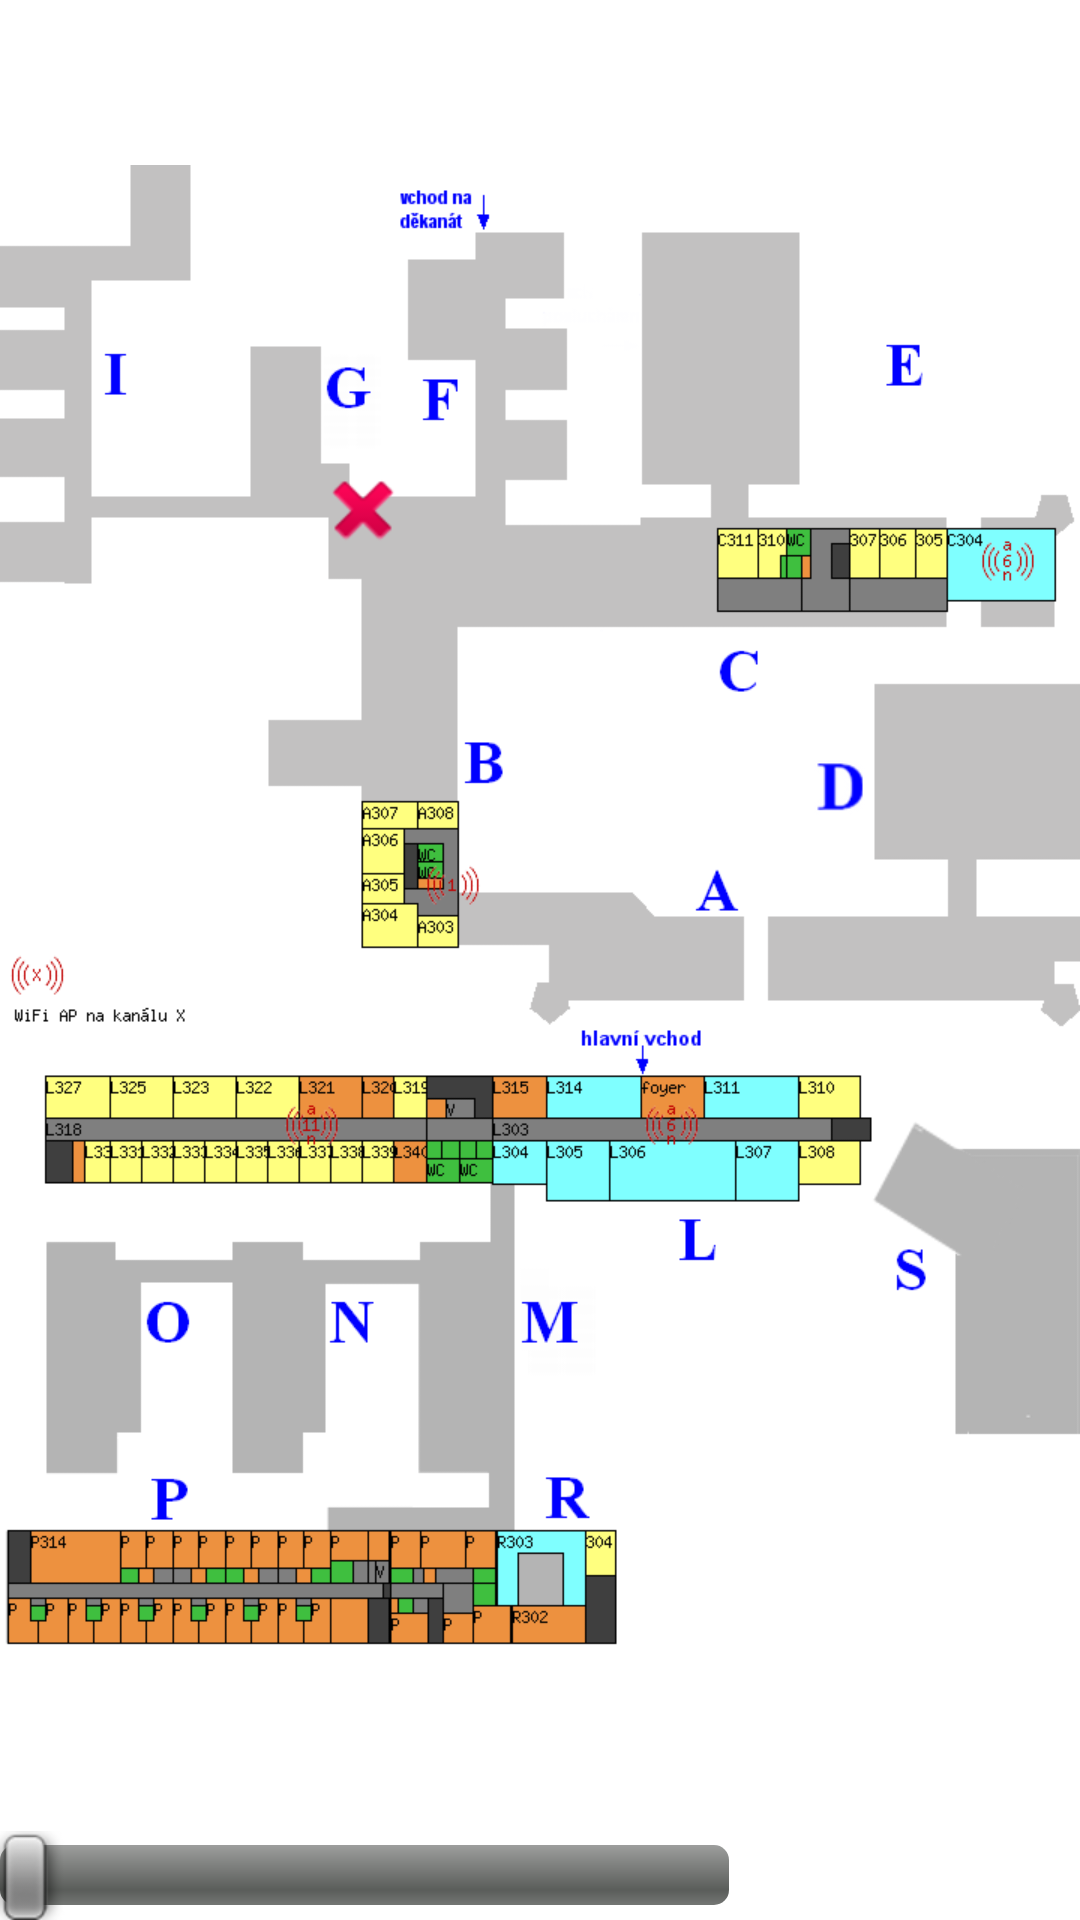

Icons on this 1080 x 1920 Android screen, each with the point to tap as [x,y]:
delete: [363,510]
